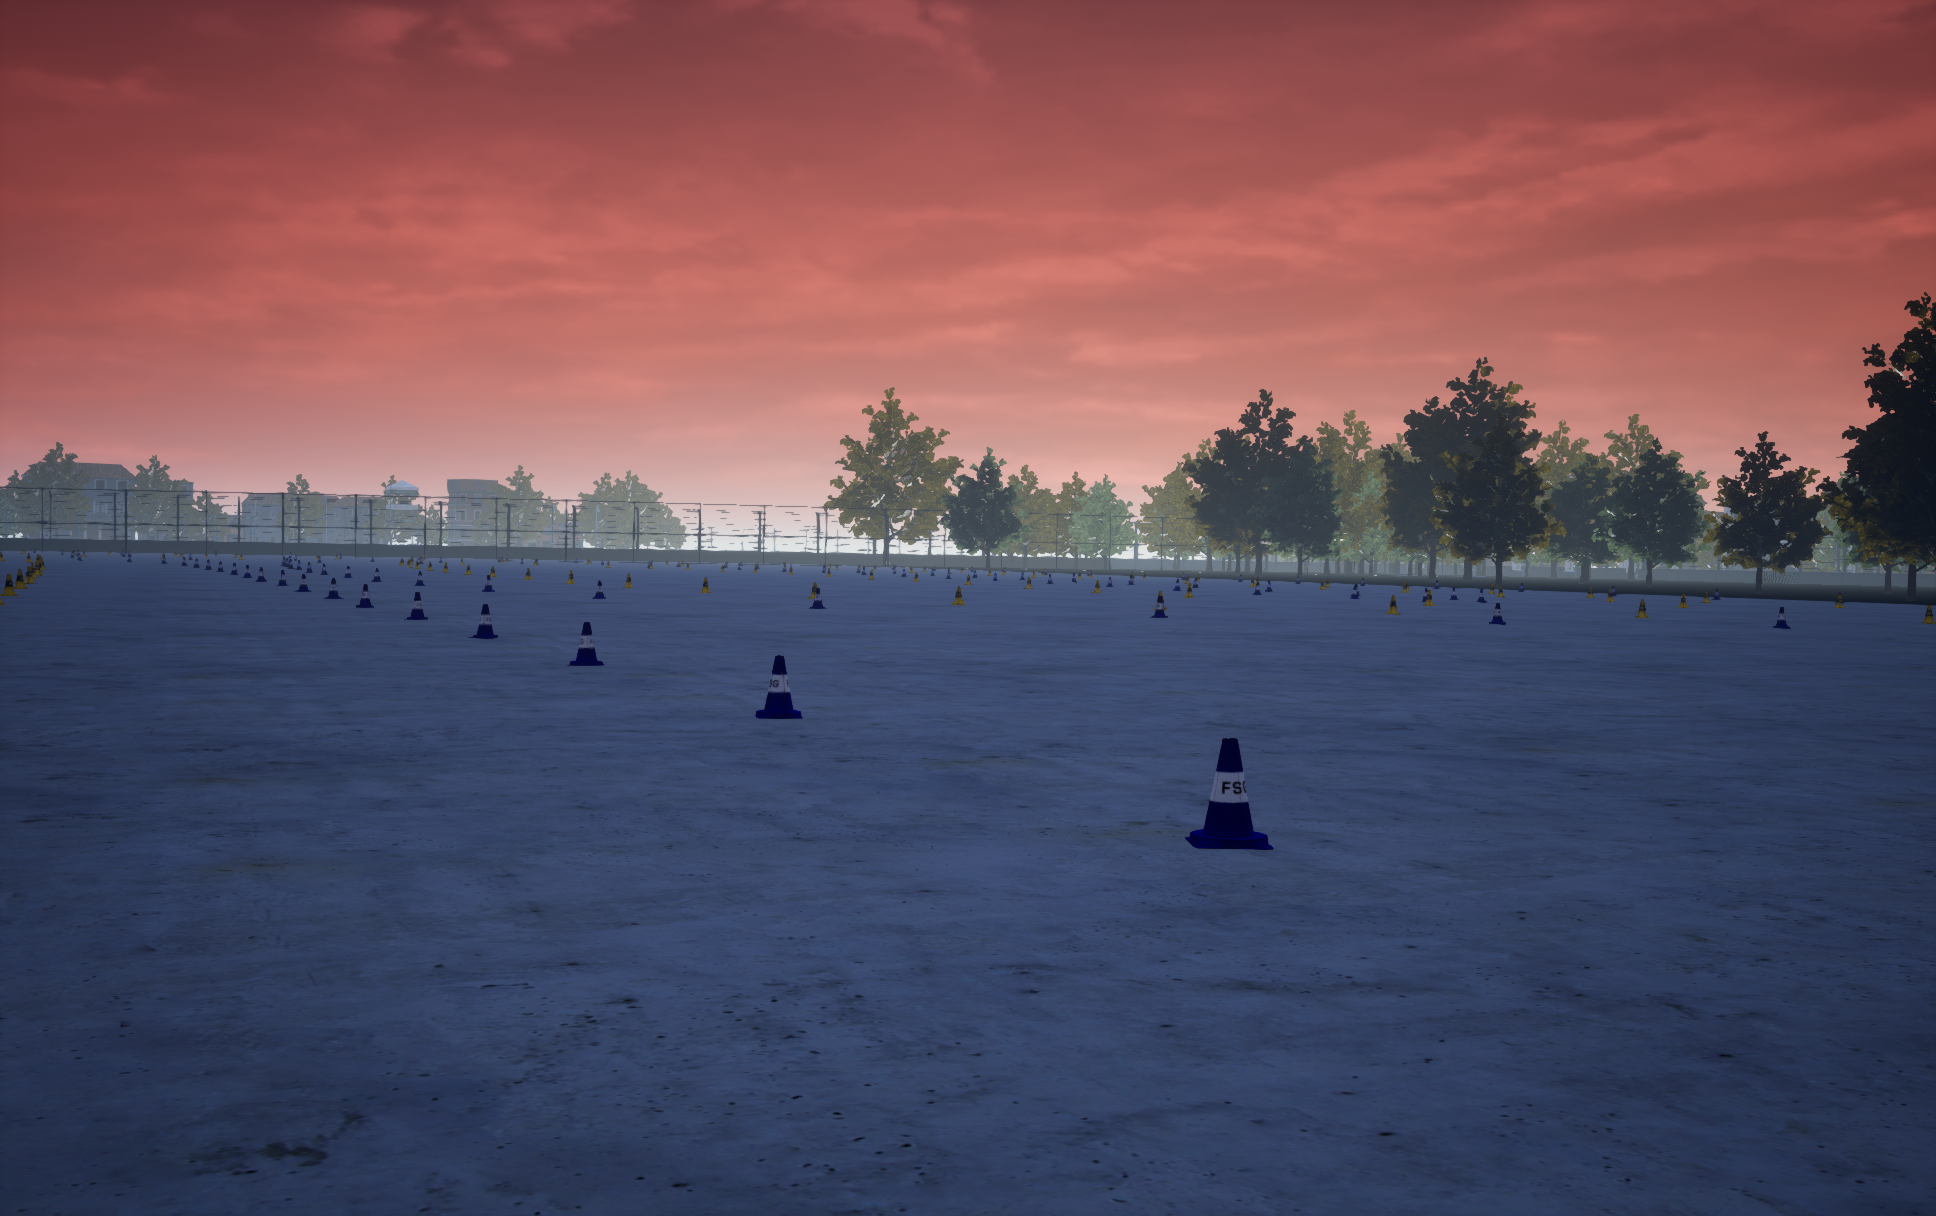blue: (0, 574, 17, 595), (1385, 595, 1399, 614), (951, 586, 964, 604), (1153, 591, 1166, 609)
yellow: (1185, 738, 1273, 849), (755, 656, 803, 719), (567, 622, 604, 665), (468, 604, 497, 637), (403, 593, 427, 619), (324, 579, 343, 598), (356, 584, 373, 607), (808, 588, 827, 608), (1773, 607, 1790, 628), (1150, 595, 1167, 616), (1489, 602, 1505, 623), (593, 580, 605, 598)
